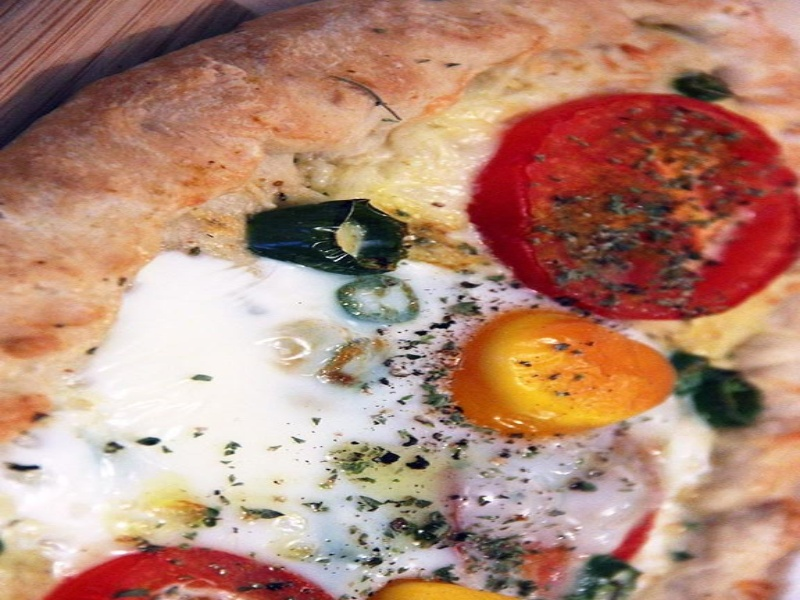oeuf: (422, 303, 684, 454)
